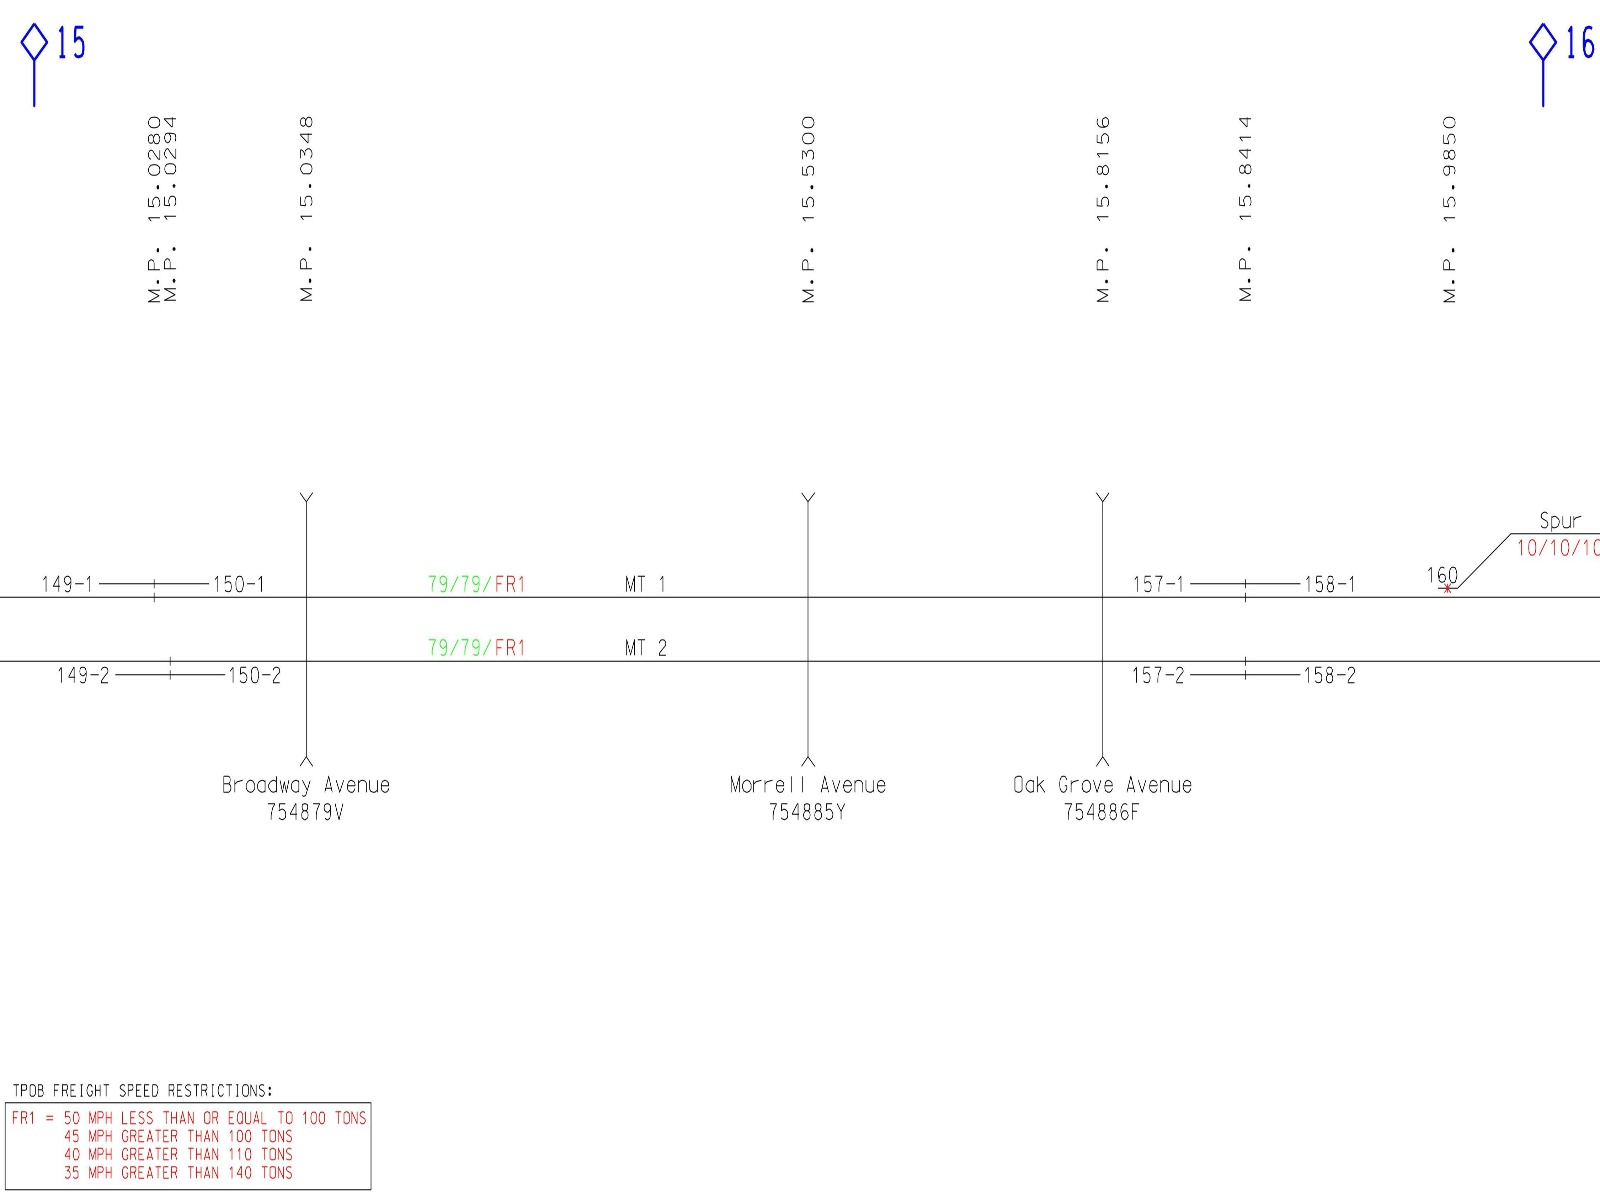crossover: (776, 488, 842, 774), (1073, 484, 1139, 770), (276, 487, 341, 771)
crossoverLabel: (213, 770, 407, 837), (714, 768, 908, 834), (1003, 764, 1197, 831)
milepost: (260, 106, 350, 321), (760, 102, 850, 318), (1054, 103, 1145, 319), (1405, 100, 1495, 315), (1204, 100, 1294, 316), (118, 108, 208, 324)
